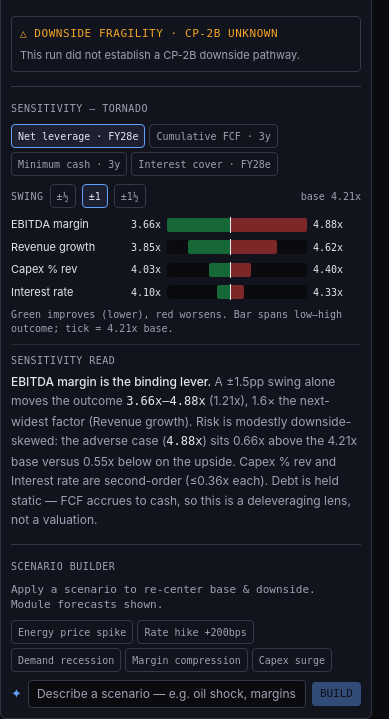
it: ScenarioPanel › ignores empty and duplicate natural-language submits while one build is pending
The image size is (389, 719).
(page scrolled)
Press Enter in the field labelled "Describe a scenario", box top-left (28, 680), bottom-right (306, 708)
Replace the text in the field labelled "Describe a scenario" with "pending case" at (167, 694), box top-left (28, 680), bottom-right (306, 708)
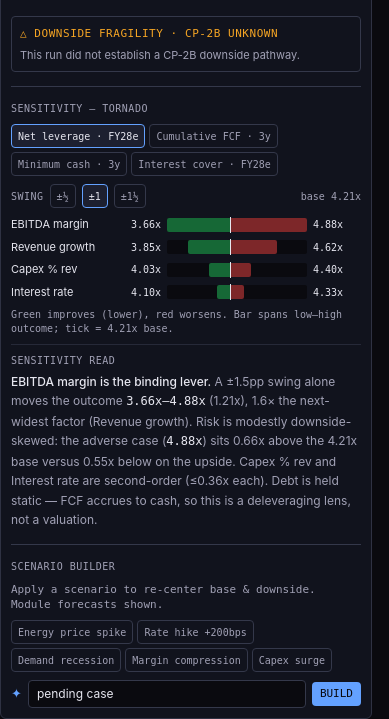
Press Enter in the field named "Describe a scenario", box top-left (28, 680), bottom-right (306, 708)
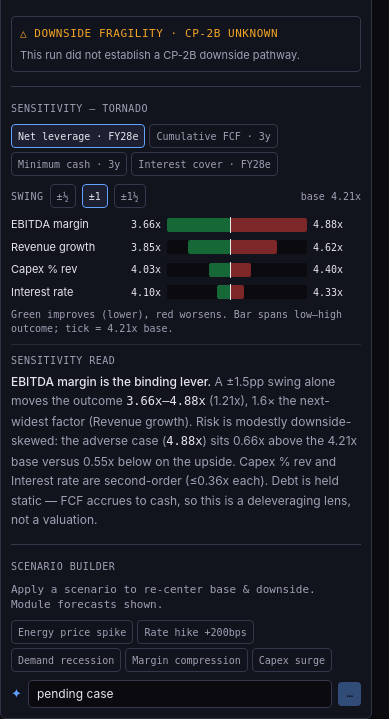
Press Enter in the field named "Describe a scenario", box top-left (28, 680), bottom-right (332, 708)
(page scrolled)
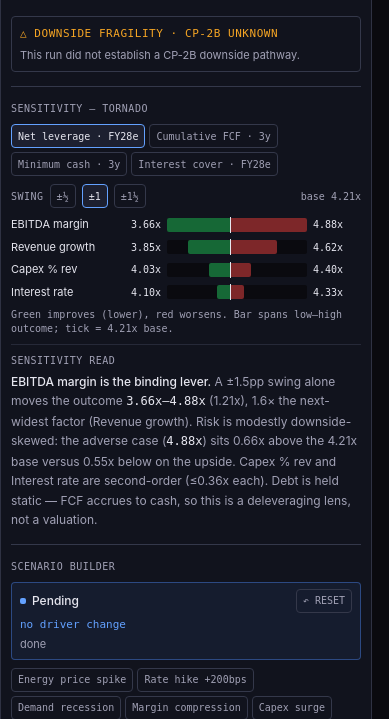
Check: the text "Pending" is shown, box top-left (32, 592), bottom-right (79, 610)
